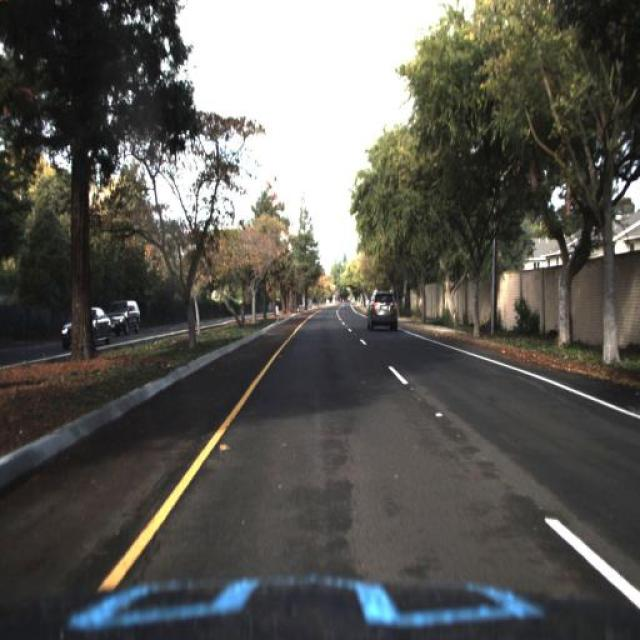car: (101, 298, 143, 339), (365, 287, 401, 333)
